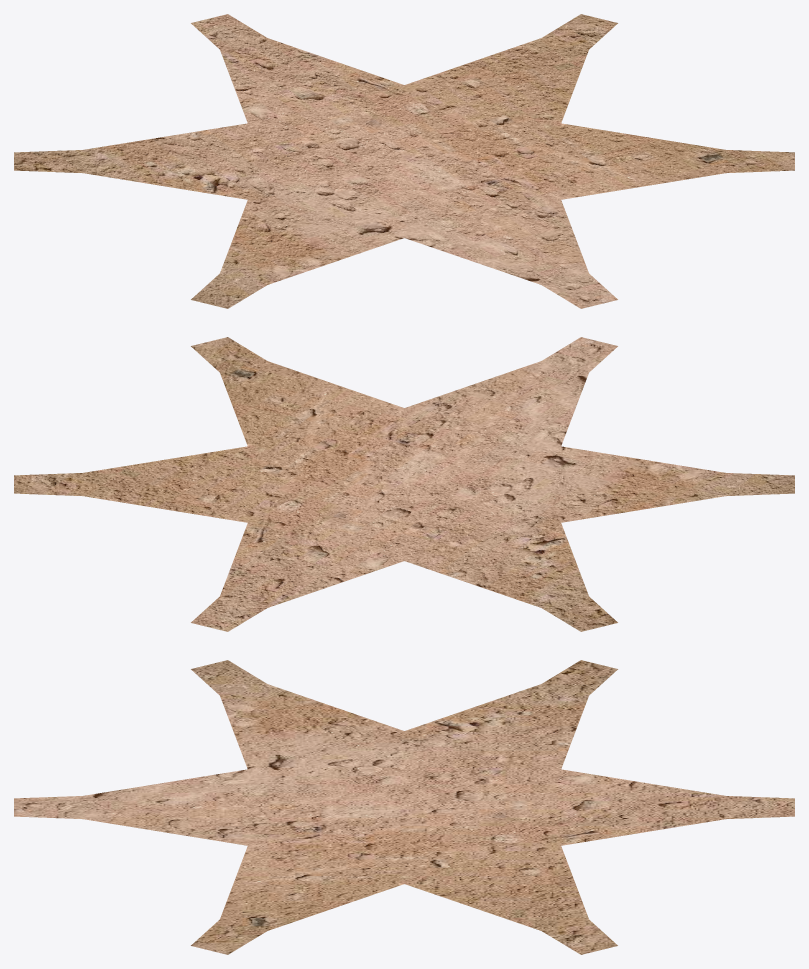
File: road2.fbx
3 renders of one model, top to bottom at view 1: azimuth 30°, elevation 25°; view 2: azimuth 150°, elevation 25°; view 3: azimuth 270°, elevation 25°, orthographic.
Visible parts, largest first — view 1: hexTile_basic; view 2: hexTile_basic; view 3: hexTile_basic.
Part boxes in pixels (<box>): hexTile_basic: <box>14,14,794,308</box>; hexTile_basic: <box>14,337,794,631</box>; hexTile_basic: <box>14,660,794,954</box>.
Size of the model in its own units: 1.46 by 0.000238 by 1.63.
